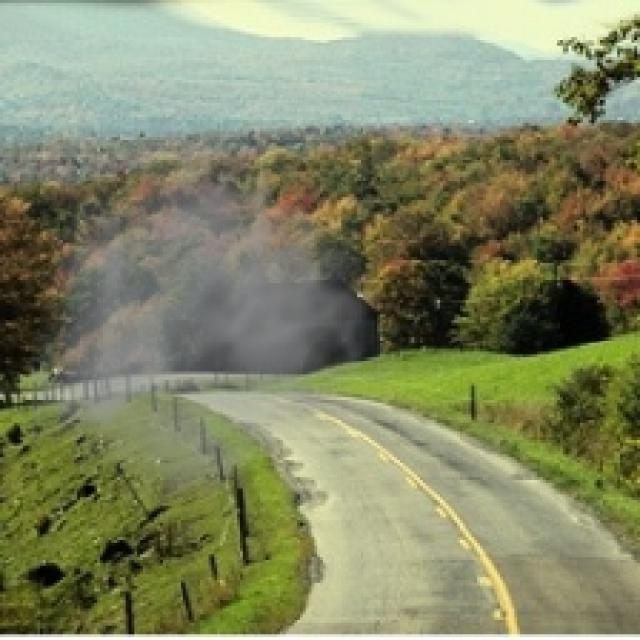smoke: (31, 123, 412, 523)
